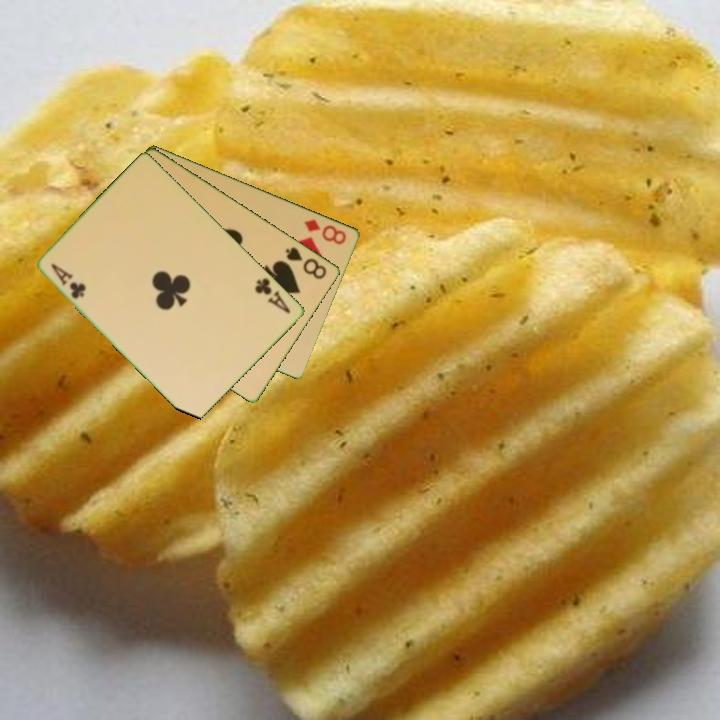8d: (301, 215, 350, 247)
8s: (282, 243, 330, 282)
Ac: (252, 274, 294, 316), (48, 260, 89, 302)
